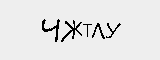Д: (126, 19, 151, 44)
Н: (56, 20, 79, 43)
П: (82, 20, 103, 43), (13, 18, 30, 36)
Щ: (30, 20, 60, 43)
Ө: (103, 20, 127, 42)
